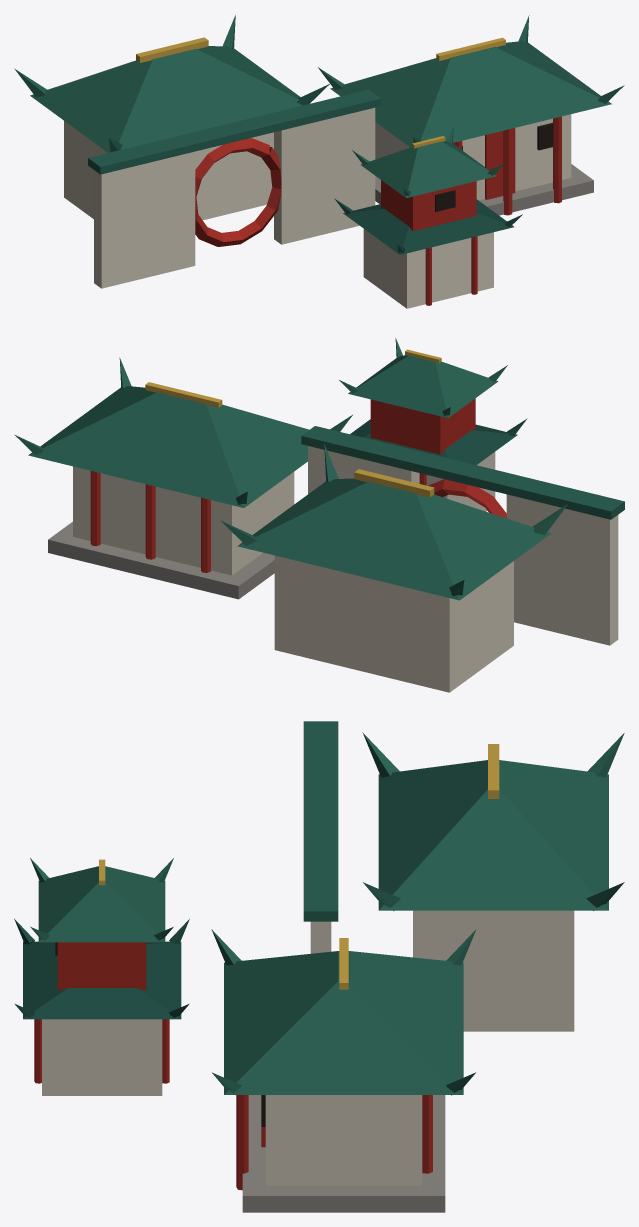
File: dragon_compound_broken.glb
3 views of the same model, one above another, from view 1: azimuth 30°, elevation 25°; view 2: azimuth 150°, elevation 25°; view 3: azimuth 270°, elevation 25° (orthographic). The views are drawn at different scales.
Parts seen in each view (by area): view 1: dragon_compound_piece2, dragon_compound_piece3, dragon_compound_piece5, dragon_compound_piece13, dragon_compound_piece7, dragon_compound_piece12, dragon_compound_piece8, dragon_compound_piece0, dragon_compound_piece1, dragon_compound_piece6, dragon_compound_piece11, dragon_compound_piece9 (+1 smaller); view 2: dragon_compound_piece6, dragon_compound_piece5, dragon_compound_piece9, dragon_compound_piece3, dragon_compound_piece1, dragon_compound_piece12, dragon_compound_piece13, dragon_compound_piece2, dragon_compound_piece7, dragon_compound_piece4, dragon_compound_piece10, dragon_compound_piece0 (+2 smaller); view 3: dragon_compound_piece3, dragon_compound_piece2, dragon_compound_piece1, dragon_compound_piece6, dragon_compound_piece8, dragon_compound_piece13, dragon_compound_piece10, dragon_compound_piece7, dragon_compound_piece5, dragon_compound_piece12, dragon_compound_piece9, dragon_compound_piece11 (+1 smaller).
Boxes of the visible parts, x1,y1,x2,y2 form: dragon_compound_piece2: (367,37,624,215); dragon_compound_piece3: (334,98,522,308); dragon_compound_piece5: (66,82,195,288); dragon_compound_piece13: (244,80,419,244); dragon_compound_piece7: (147,80,266,249); dragon_compound_piece12: (25,47,177,190); dragon_compound_piece8: (163,40,296,94); dragon_compound_piece0: (281,58,439,99); dragon_compound_piece1: (206,15,356,93); dragon_compound_piece6: (370,15,560,80); dragon_compound_piece11: (194,37,386,96); dragon_compound_piece9: (14,68,72,201); dragon_compound_piece6: (14,404,237,583); dragon_compound_piece5: (451,481,624,687); dragon_compound_piece9: (326,512,464,692); dragon_compound_piece3: (305,338,527,511); dragon_compound_piece1: (175,479,350,662); dragon_compound_piece12: (364,480,498,670); dragon_compound_piece13: (247,430,441,525); dragon_compound_piece2: (67,357,322,504); dragon_compound_piece7: (418,457,542,522); dragon_compound_piece4: (196,515,274,599); dragon_compound_piece10: (72,506,255,588); dragon_compound_piece0: (192,407,325,493); dragon_compound_piece3: (14,858,313,1095); dragon_compound_piece2: (212,904,369,1212); dragon_compound_piece1: (433,815,624,1115); dragon_compound_piece6: (354,953,475,1212); dragon_compound_piece8: (426,761,546,970); dragon_compound_piece13: (255,833,472,1106); dragon_compound_piece10: (300,1095,443,1212); dragon_compound_piece7: (303,766,461,871); dragon_compound_piece5: (303,721,462,810); dragon_compound_piece12: (452,744,610,808); dragon_compound_piece9: (539,733,624,846); dragon_compound_piece11: (426,784,541,962).
Bounding box in the file's own units: 6.82 × 2.12 × 5.3.
